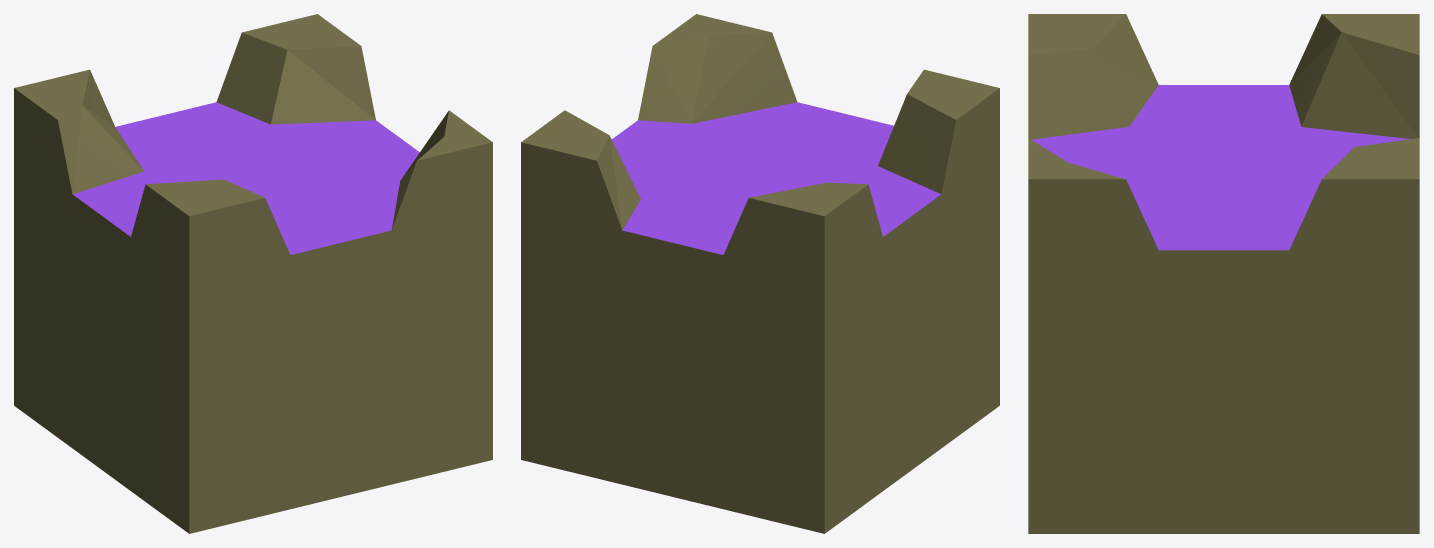
File: tile_toxic_deep2_6_01.fbx
3 renders of one model, left to right at view 1: azimuth 30°, elevation 25°; view 2: azimuth 150°, elevation 25°; view 3: azimuth 270°, elevation 25°, orthographic. The views are drawn at different scales.
Parts seen in each view (by area): view 1: tile_toxic_deep2_6_01; view 2: tile_toxic_deep2_6_01; view 3: tile_toxic_deep2_6_01.
Part boxes in pixels (x1,y1,x2,y2): tile_toxic_deep2_6_01: (14,14,492,533); tile_toxic_deep2_6_01: (521,14,999,533); tile_toxic_deep2_6_01: (1028,14,1419,533).
Bounding box in the file's own units: 100 × 100 × 100.
